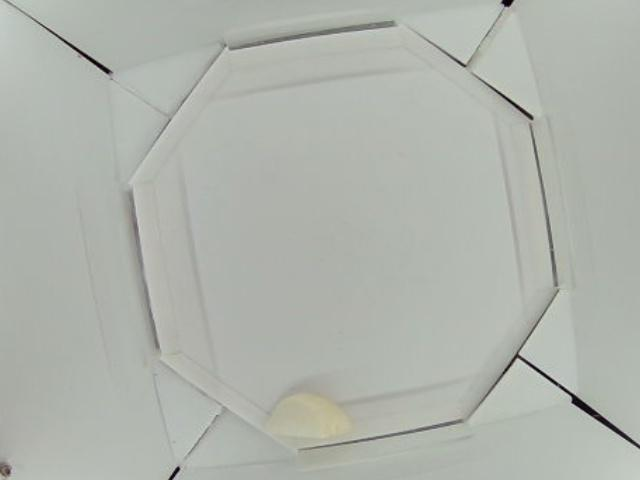Mooli: (266, 394, 356, 437)
